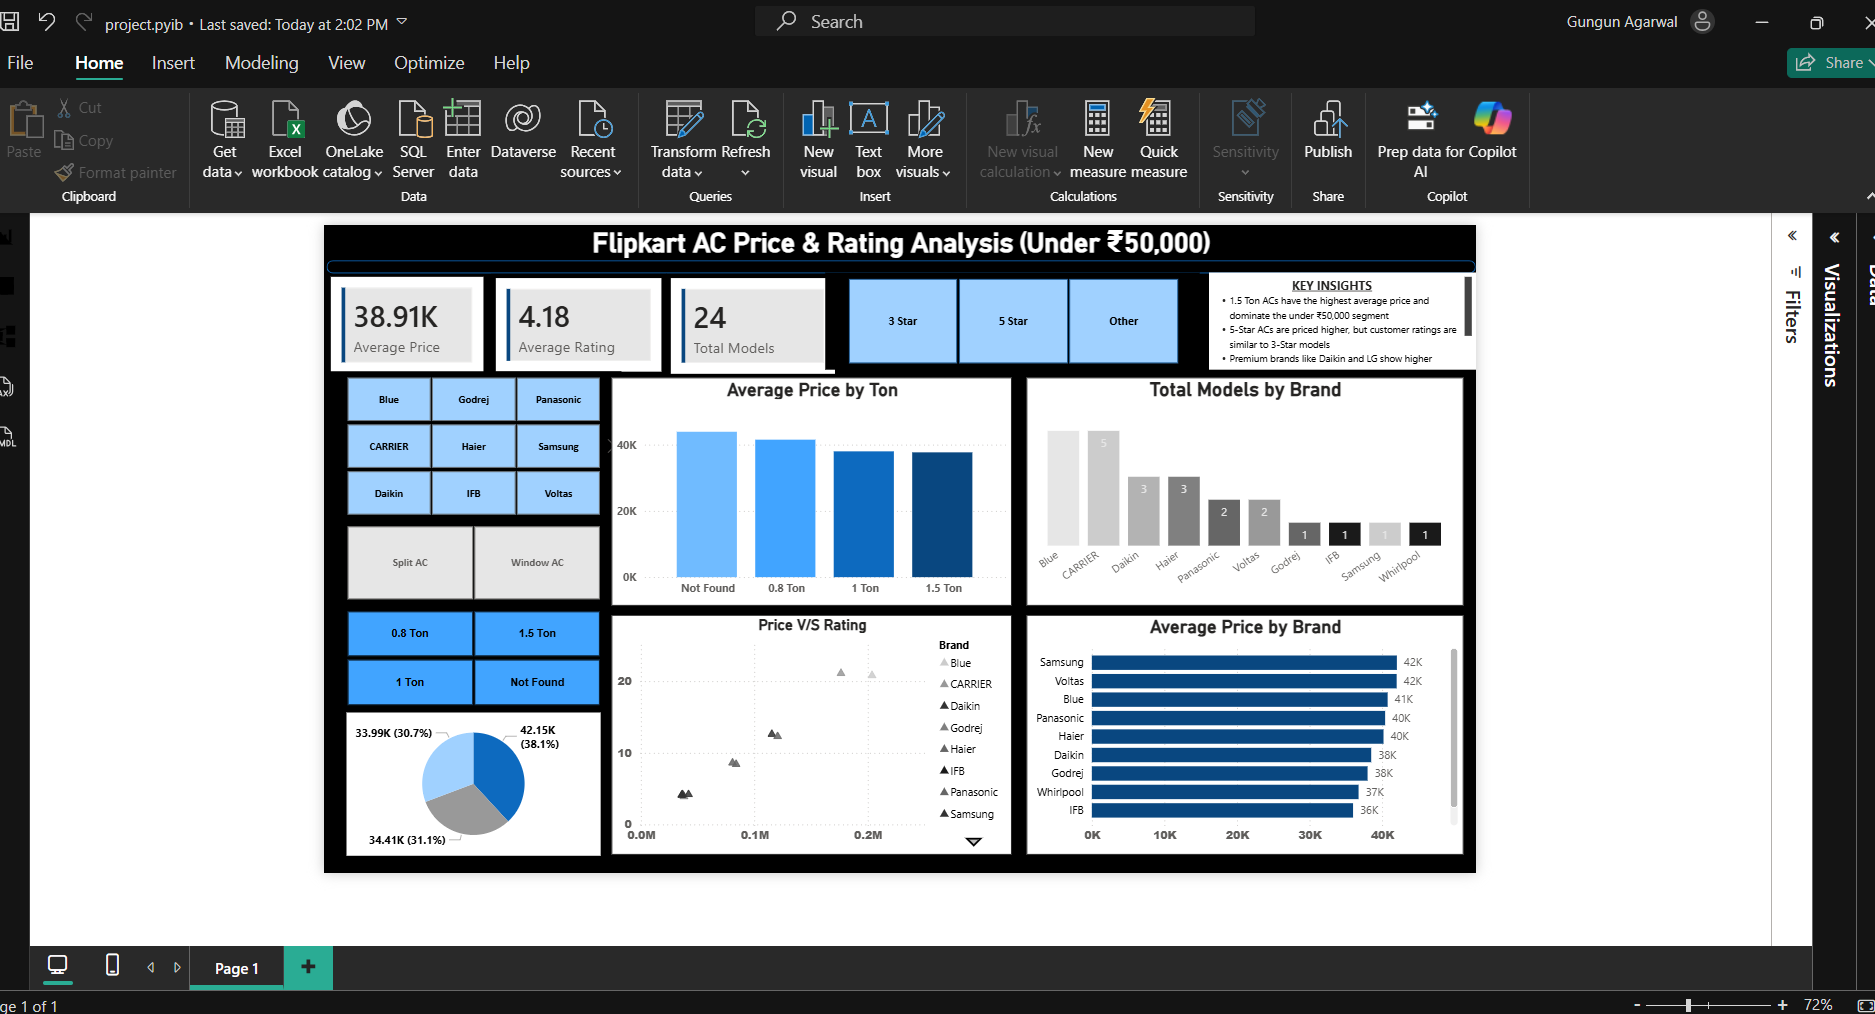

The page's visual inventory and layout, read from the dashboard file:
{"tool":"powerbi","page":{"name":"Page 1","canvas":[1280,720],"ordinal":0},"visuals":[{"type":"cardVisual","fields":{"Data":["Table1.Average Price"]},"box":[3.2,53.2,179,117.7],"z":0},{"type":"shape","title":"Flipkart AC Price & Rating Analysis (Under ₹50,000)","box":[3.3,0,1277,54.1],"z":1000},{"type":"cardVisual","fields":{"Data":["Table1.Average Rating"]},"box":[186.6,53.7,194,114.9],"z":2000},{"type":"cardVisual","fields":{"Data":["Table1.Total Models"]},"box":[380.6,53.7,192.5,116.4],"z":3000},{"type":"clusteredBarChart","fields":{"Category":["Table1.Brand"],"Y":["Table1.Average Price"]},"box":[780.6,433.9,485.5,266.1],"z":4000},{"type":"slicer","fields":{"Values":["Table1.Ton"]},"box":[0,422.6,330.7,118],"z":5000},{"type":"slicer","fields":{"Values":["Table1.Star Rating"]},"box":[556.5,53.2,416.1,108.1],"z":6000},{"type":"slicer","fields":{"Values":["Table1.AC Type"]},"box":[0,328,330.7,94.7],"z":7000},{"type":"slicer","fields":{"Values":["Table1.Brand"]},"box":[0,161.9,330.7,166],"z":8000},{"type":"clusteredColumnChart","fields":{"Category":["Table1.Brand"],"Y":["Table1.Total Models"]},"box":[780.6,169.4,485.5,253.2],"z":9000},{"type":"pieChart","fields":{"Category":["Table1.Star Rating"],"Y":["Table1.Average Price"]},"box":[25.5,541.2,282.4,158.8],"z":10000},{"type":"clusteredColumnChart","fields":{"Category":["Table1.Ton"],"Y":["Table1.Average Price"]},"box":[319.4,169.4,445.2,253.2],"z":11000},{"type":"scatterChart","title":"Price V/S Rating","fields":{"X":["Sum(Table1.Prices)"],"Y":["Sum(Table1.Reviews)"],"Series":["Table1.Brand"]},"box":[319.4,433.9,445.2,266.1],"z":12000},{"type":"textbox","box":[983.9,53.2,296.8,108.1],"z":13002}]}

Visuals, with their boxes on the page's 1280x720 design canvas (x1, y1, x2, y2). These are canvas units, not pixel positions in the 1875x1014 screenshot, which may show the page scaled, cropped or inside an application window:
cardVisual - Table1.Average Price: left=3, top=53, right=182, bottom=171
"Flipkart AC Price & Rating Analysis (Under ₹50,000)" shape: left=3, top=0, right=1280, bottom=54
cardVisual - Table1.Average Rating: left=187, top=54, right=381, bottom=169
cardVisual - Table1.Total Models: left=381, top=54, right=573, bottom=170
clusteredBarChart - Table1.Brand x Table1.Average Price: left=781, top=434, right=1266, bottom=700
slicer - Table1.Ton: left=0, top=423, right=331, bottom=541
slicer - Table1.Star Rating: left=556, top=53, right=973, bottom=161
slicer - Table1.AC Type: left=0, top=328, right=331, bottom=423
slicer - Table1.Brand: left=0, top=162, right=331, bottom=328
clusteredColumnChart - Table1.Brand x Table1.Total Models: left=781, top=169, right=1266, bottom=423
pieChart - Table1.Star Rating x Table1.Average Price: left=26, top=541, right=308, bottom=700
clusteredColumnChart - Table1.Ton x Table1.Average Price: left=319, top=169, right=765, bottom=423
"Price V/S Rating" scatterChart: left=319, top=434, right=765, bottom=700
textbox: left=984, top=53, right=1281, bottom=161
